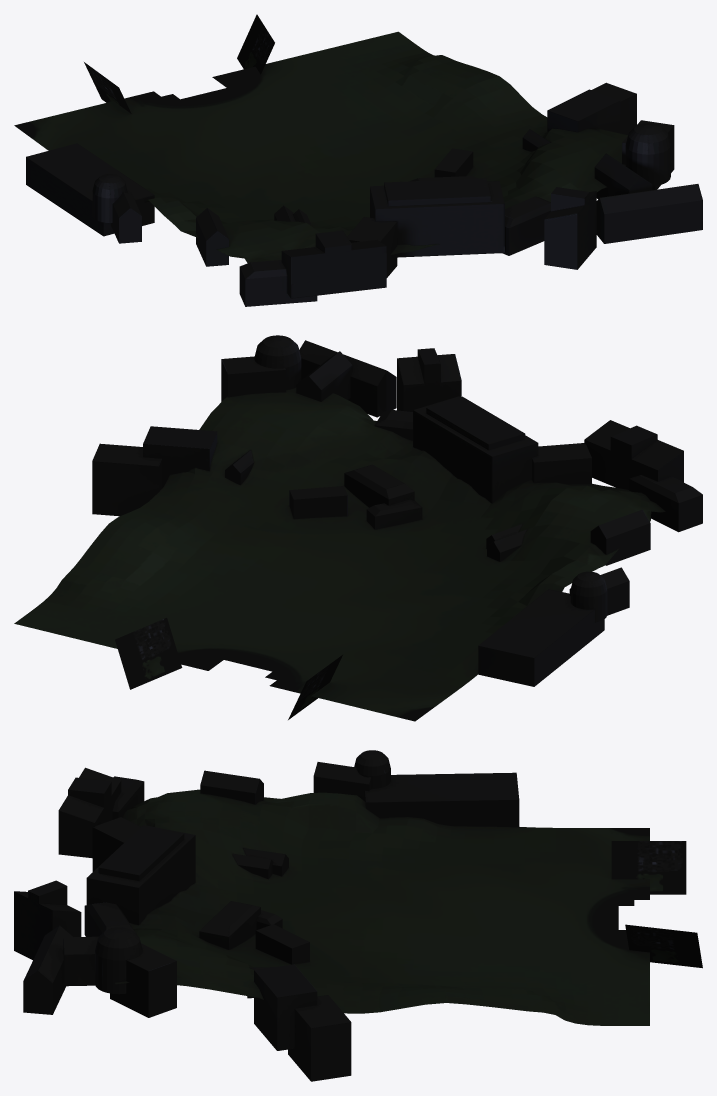
File: era3BAC.glb
The picture shows the model from 3 angles, top to bottom: view 1: azimuth 30°, elevation 25°; view 2: azimuth 150°, elevation 25°; view 3: azimuth 270°, elevation 25°; orthographic projection. The views are drawn at different scales.
Visible parts, largest first — view 1: Plane.045; view 2: Plane.045; view 3: Plane.045.
Part boxes in pixels (bbox=[...]): Plane.045: bbox=[14, 14, 702, 306]; Plane.045: bbox=[14, 335, 702, 721]; Plane.045: bbox=[14, 750, 702, 1081].
Size of the model in its own units: 2122 by 409 by 2332.
Materials: 1 (1 with a texture image).
